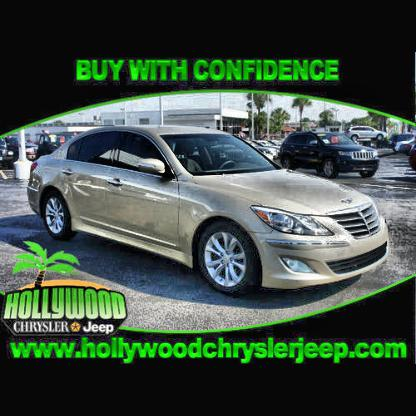Hyundai Genesis Sedan 2012: (29, 126, 392, 299)
